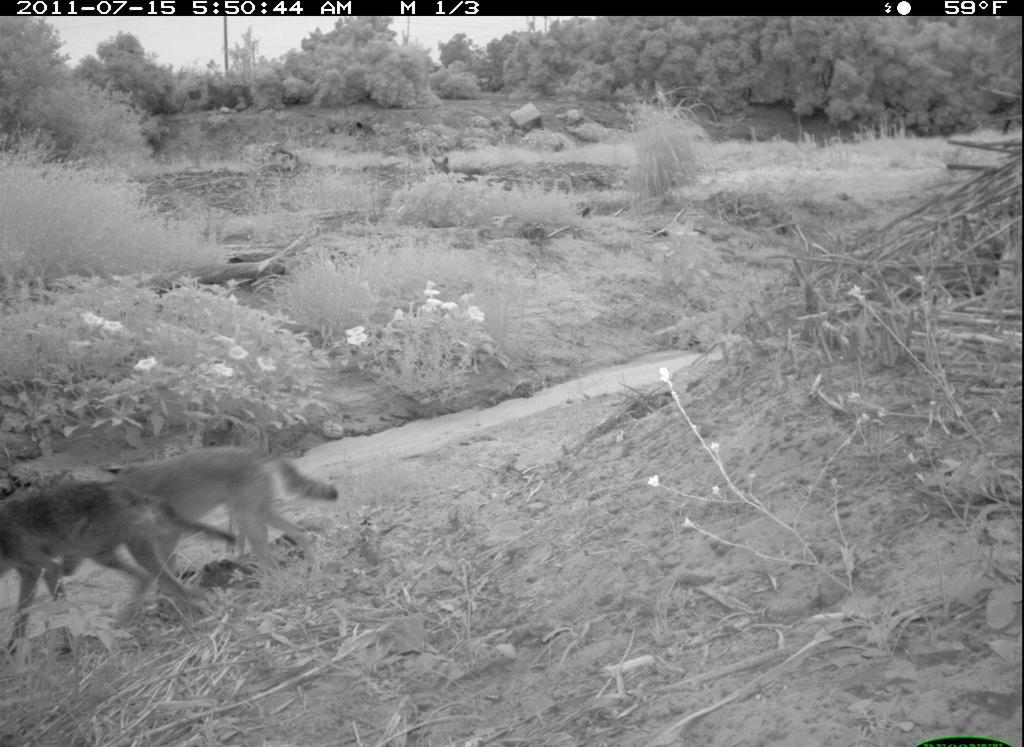coyote: (6, 465, 189, 644), (148, 441, 344, 601), (427, 153, 488, 186)
